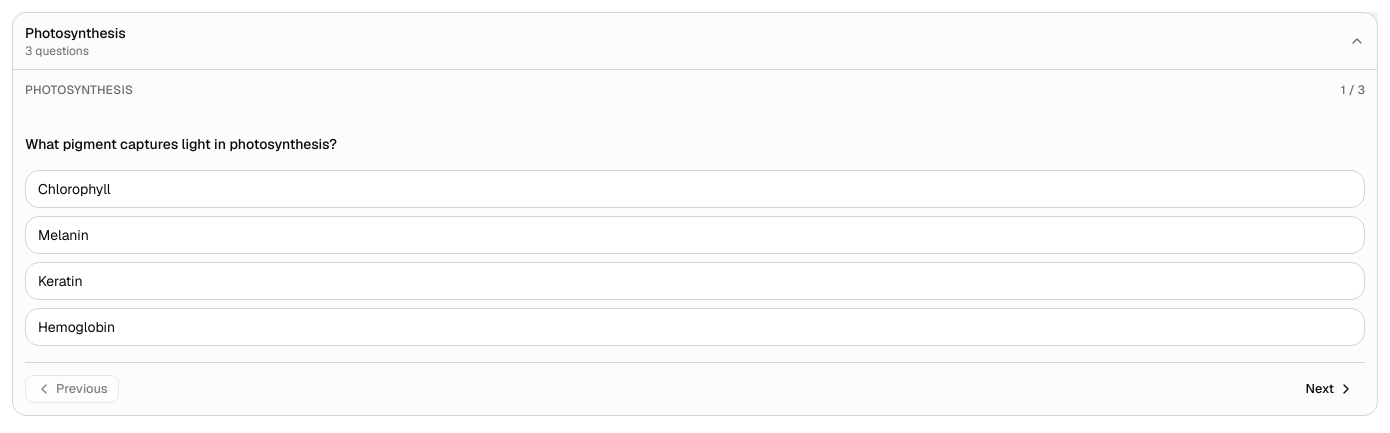
Scenario: QuizPanel pagination › the last question's Next button is labeled to finish the quiz
The width and height of the screenshot is (1390, 433).
Click the button with aria-label "Next question" at [1330, 389], box top-left (1294, 375), bottom-right (1365, 403)
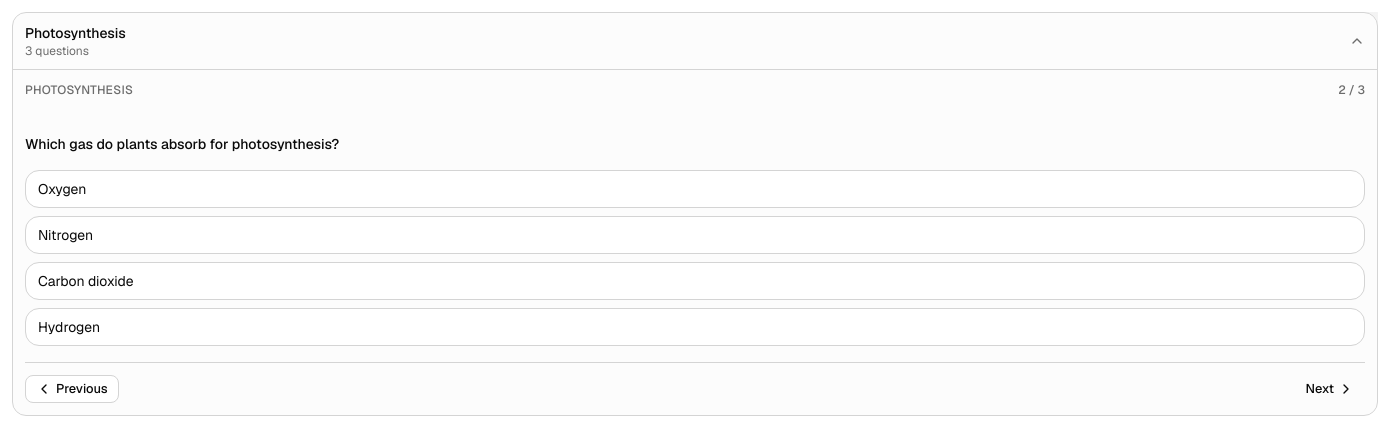
Click the button with aria-label "Next question" at [1330, 389], box top-left (1294, 375), bottom-right (1365, 403)
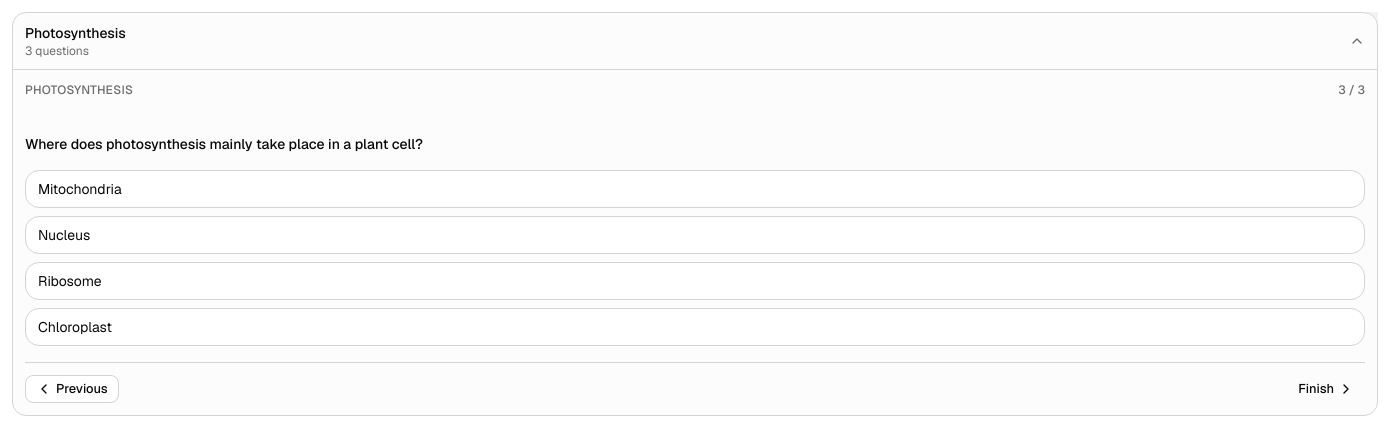
Expected: the text "3 / 3" is shown, top-left (1338, 82), bottom-right (1365, 98)
Expected: the button with aria-label "Finish quiz" is shown, top-left (1287, 375), bottom-right (1365, 403)
